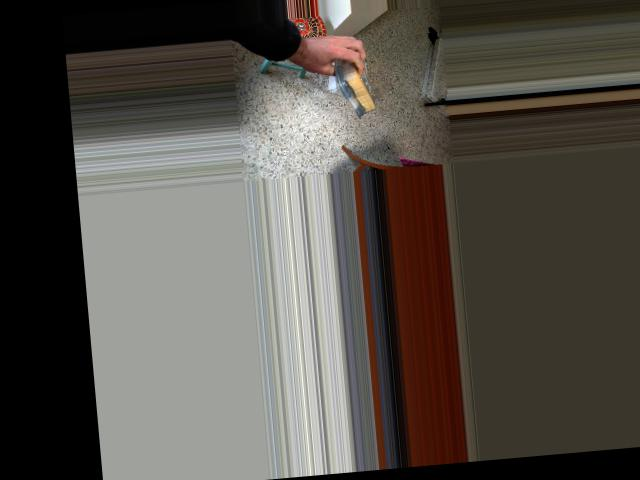cheese: (325, 43, 382, 124)
